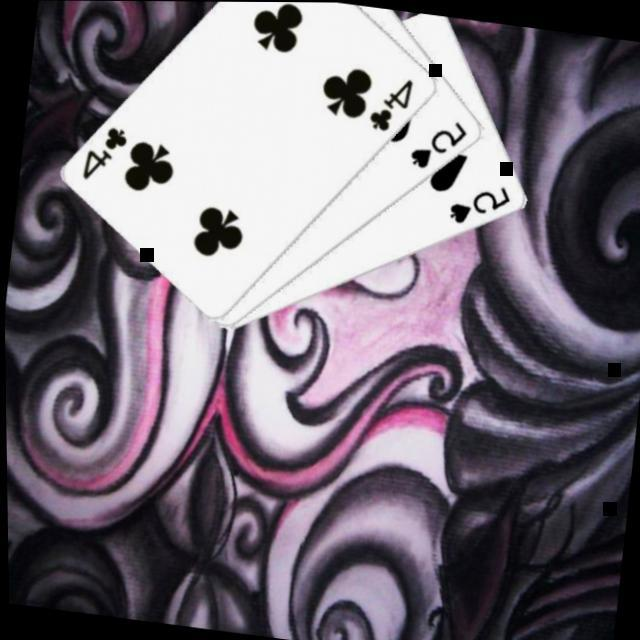4C: (361, 68, 416, 135), (75, 118, 130, 185)
5S: (402, 110, 470, 175), (442, 174, 514, 231)
